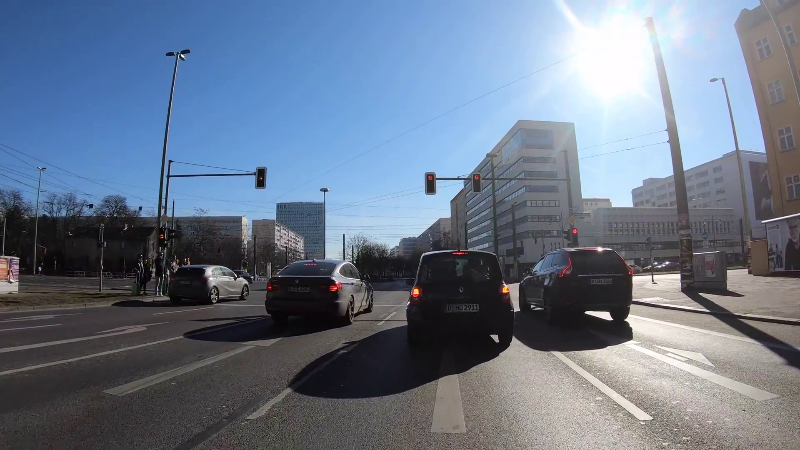Plate: (441, 301, 483, 315), (283, 284, 313, 295), (585, 276, 618, 285), (177, 279, 193, 286)
